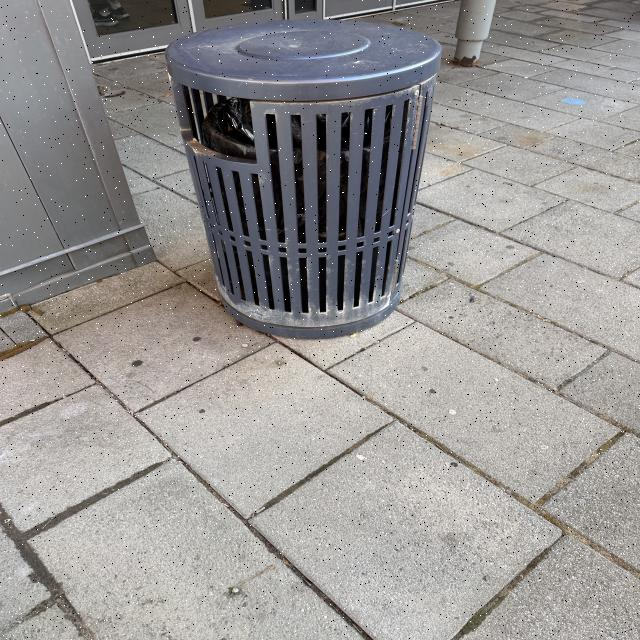Dustbin: (163, 22, 443, 343)
